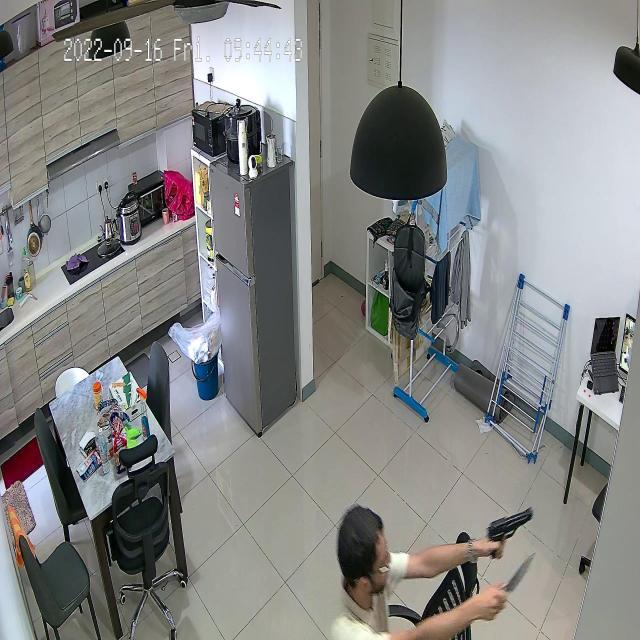Gun: (485, 494, 542, 544)
Knife: (497, 557, 543, 609)
